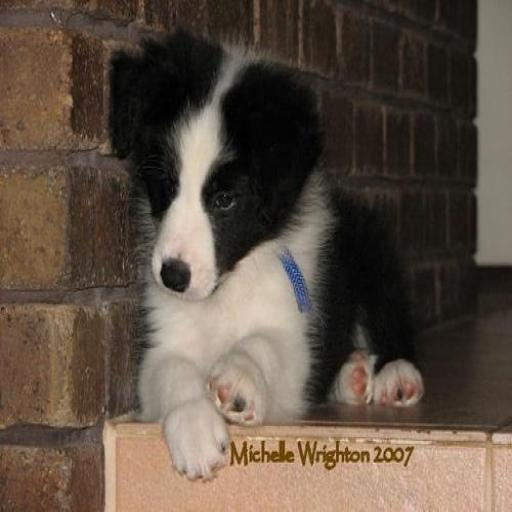dog_face: (122, 50, 313, 301)
